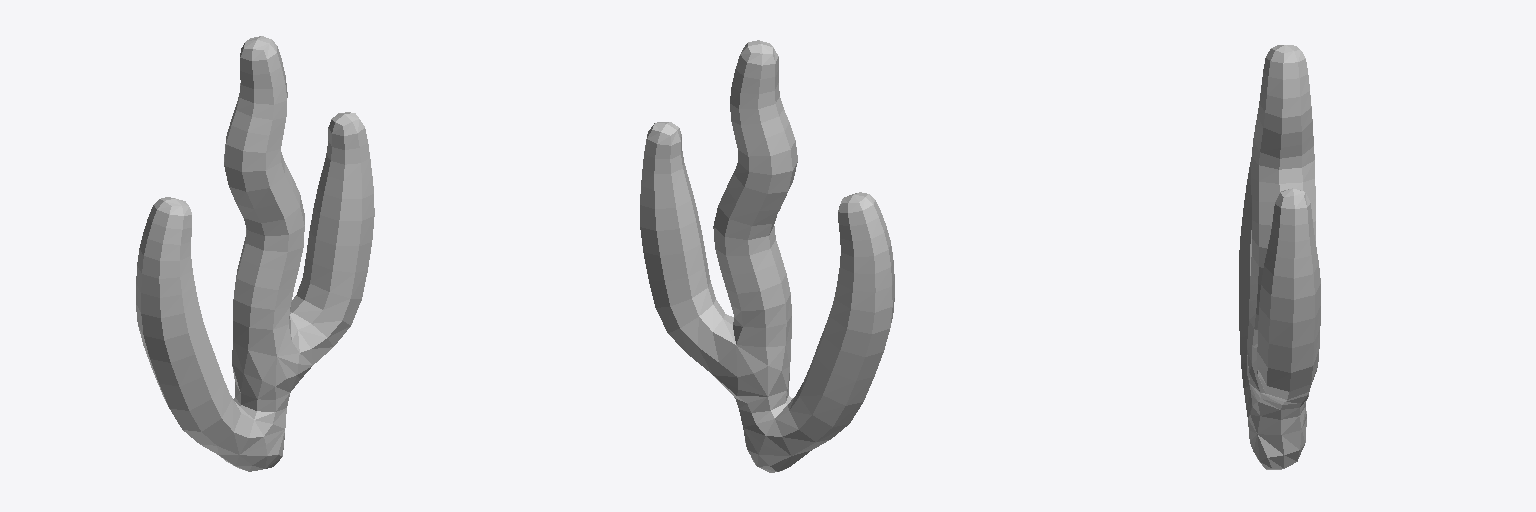
File: Cactus3.obj
3 renders of one model, left to right at view 1: azimuth 30°, elevation 25°; view 2: azimuth 150°, elevation 25°; view 3: azimuth 270°, elevation 25°, orthographic.
Parts seen in each view (by area): view 1: TridentCactus_Cube.007; view 2: TridentCactus_Cube.007; view 3: TridentCactus_Cube.007.
Boxes of the visible parts, x1,y1,x2,y2 form: TridentCactus_Cube.007: [136, 36, 374, 471]; TridentCactus_Cube.007: [640, 40, 894, 472]; TridentCactus_Cube.007: [1239, 45, 1320, 469].
Size of the model in its own units: 2.62 by 4.46 by 0.7795.